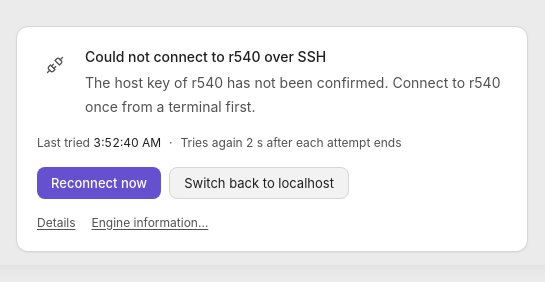
it: TerminalScreen while the run target refuses its session list › shows the error code and reason under Details
The image size is (545, 282).
Click the button "Details": (56, 222) [37, 214, 76, 230]
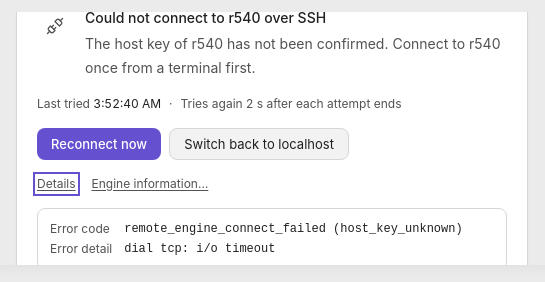
Now the button "Details" is expanded, box [37, 176, 76, 192]
Now the text "remote_engine_connect_failed (host_key_unknown)" is shown, box [124, 220, 494, 236]
Now the text "dial tcp: i/o timeout" is shown, box [124, 242, 275, 256]
